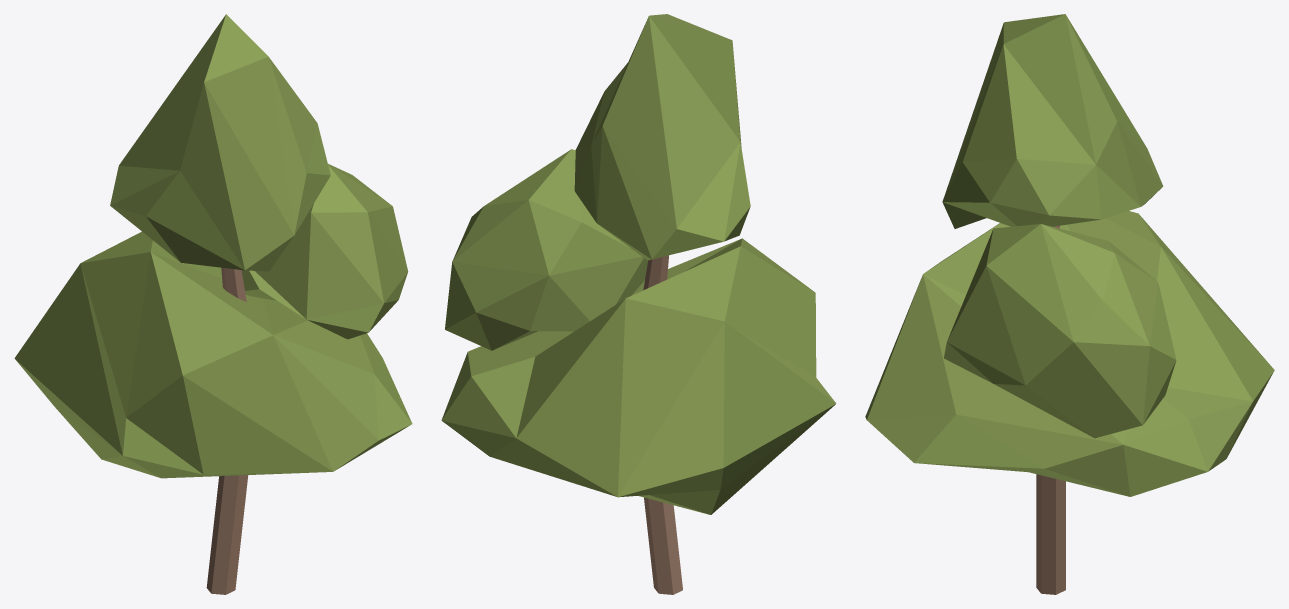
The model's file is Tree_Type4_01.glb.
The picture shows the model from 3 angles, left to right: view 1: azimuth 30°, elevation 25°; view 2: azimuth 150°, elevation 25°; view 3: azimuth 270°, elevation 25°; orthographic projection. The views are drawn at different scales.
Visible parts, largest first — view 1: Tree Type4 01 Model; view 2: Tree Type4 01 Model; view 3: Tree Type4 01 Model.
Part boxes in pixels (x1=…): Tree Type4 01 Model: x1=14, y1=14, x2=412, y2=594; Tree Type4 01 Model: x1=441, y1=14, x2=836, y2=594; Tree Type4 01 Model: x1=865, y1=14, x2=1274, y2=594.
Size of the model in its own units: 1.24 by 2.14 by 1.37.
Materials: 1 (1 with a texture image).
